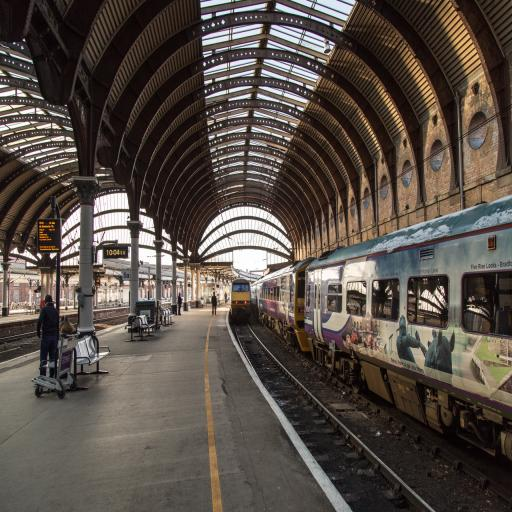platform_edge: (197, 313, 338, 512)
